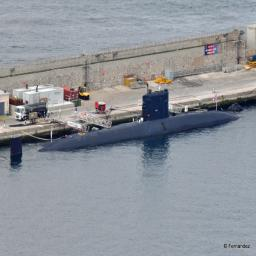submarine: (9, 85, 245, 163)
